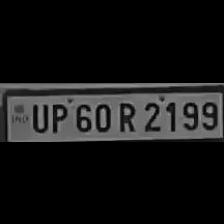0: (92, 98, 112, 132)
1: (162, 97, 178, 130)
2: (140, 98, 162, 132)
6: (70, 98, 92, 132)
9: (198, 96, 218, 130), (180, 96, 198, 130)
P: (48, 99, 68, 133)
R: (114, 98, 138, 132)
U: (28, 100, 48, 132)
